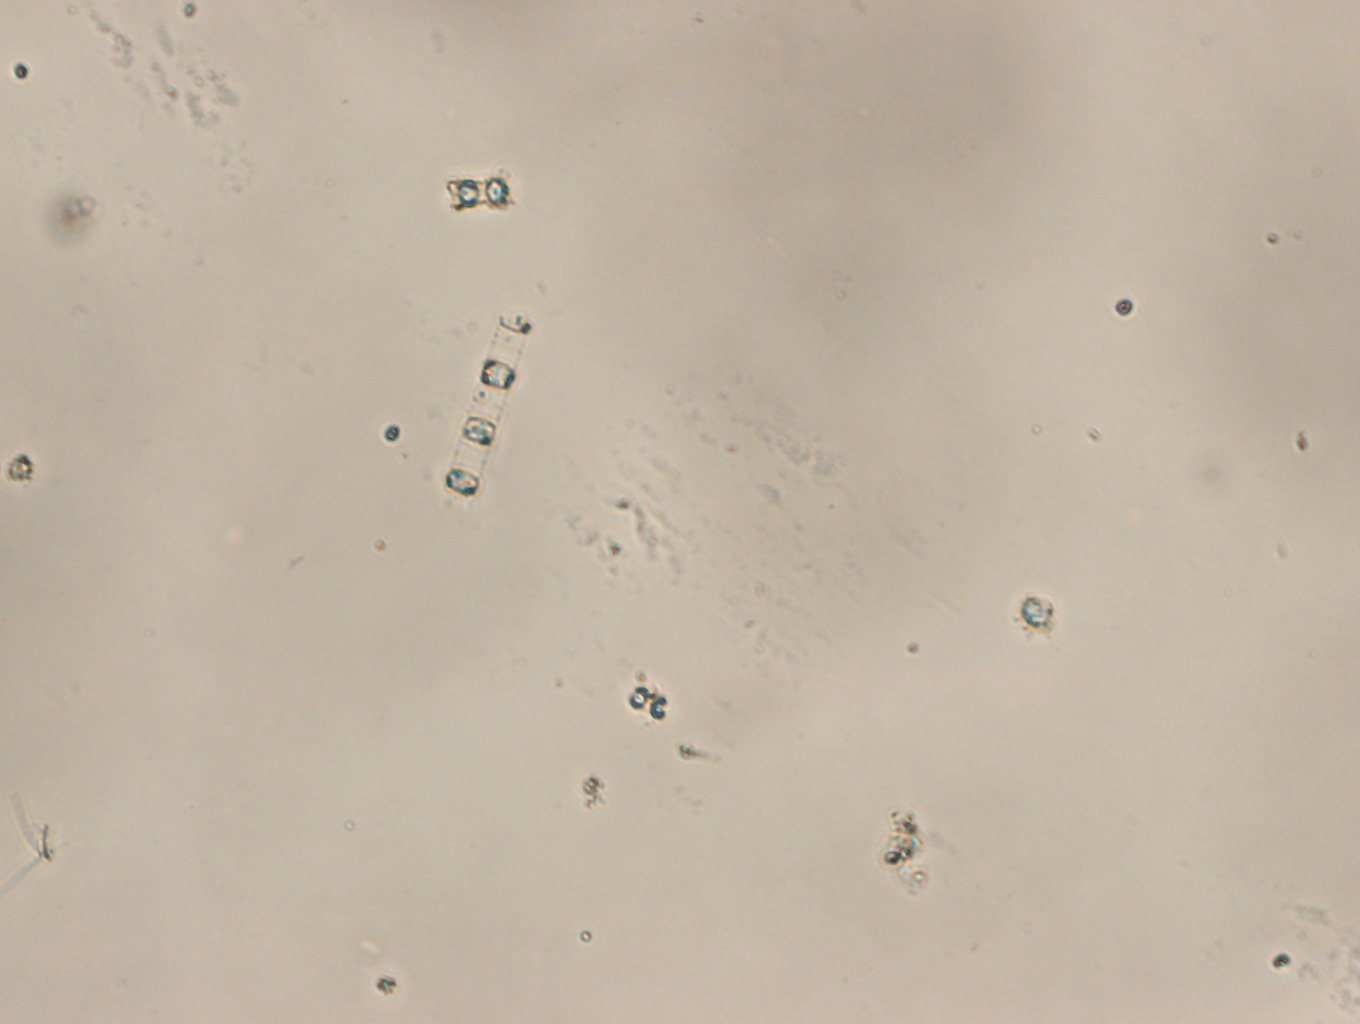skeletonema: (443, 307, 533, 501)
